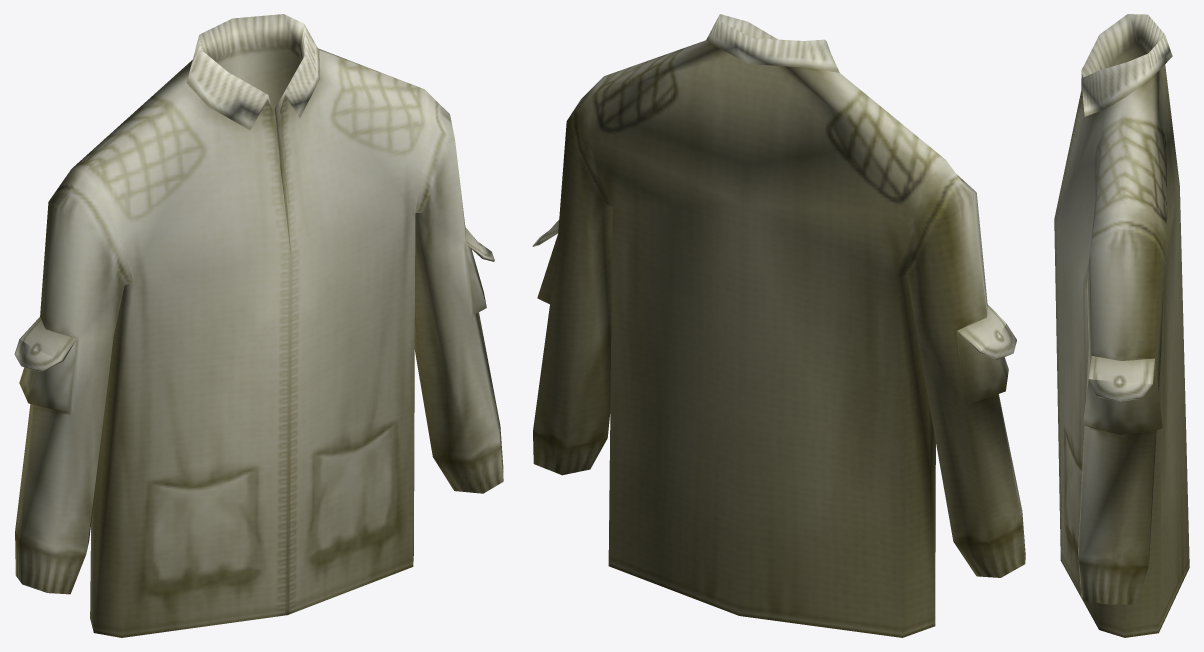
File: G_DanShenHan_yifu_05.FBX
3 views of the same model, side by side, from view 1: azimuth 30°, elevation 25°; view 2: azimuth 150°, elevation 25°; view 3: azimuth 270°, elevation 25° (orthographic). The views are drawn at different scales.
Visible parts, largest first — view 1: DanShenHan_yifu_05; view 2: DanShenHan_yifu_05; view 3: DanShenHan_yifu_05.
Boxes of the visible parts, <box> form: DanShenHan_yifu_05: <box>14,14,503,637</box>; DanShenHan_yifu_05: <box>532,14,1025,637</box>; DanShenHan_yifu_05: <box>1054,14,1189,637</box>.
Bounding box in the file's own units: 148 × 166 × 38.25.
